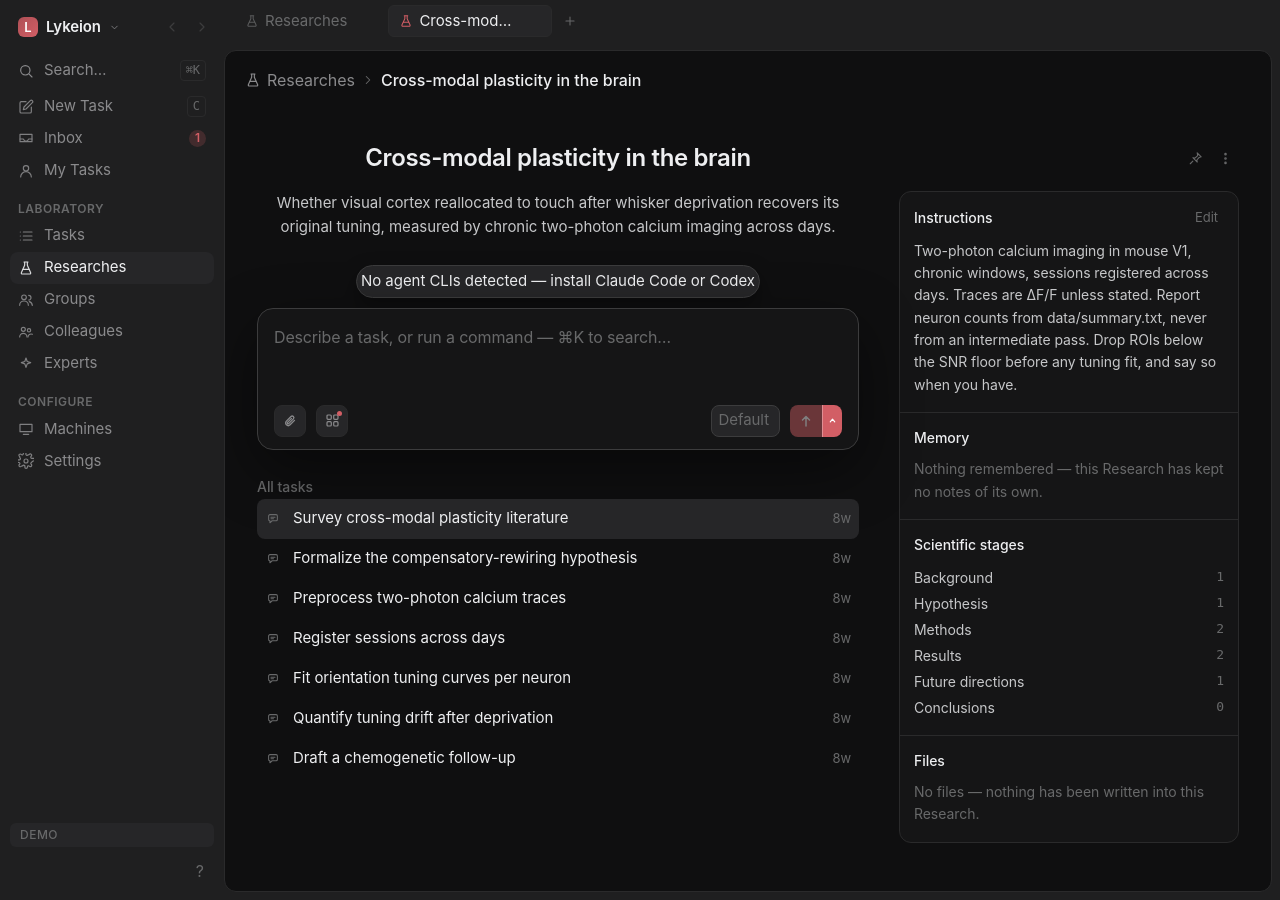
Scenario: the Research page › shows the instructions and writes an edit back to the Research
Expected: the text "Two-photon calcium imaging in mouse V1, chronic windows, sessions registered across days. Traces are ΔF/F unless stated." is shown, [914, 242, 1220, 393]
Click the button with aria-label "Edit instructions" at [1206, 218], box [1189, 206, 1224, 230]
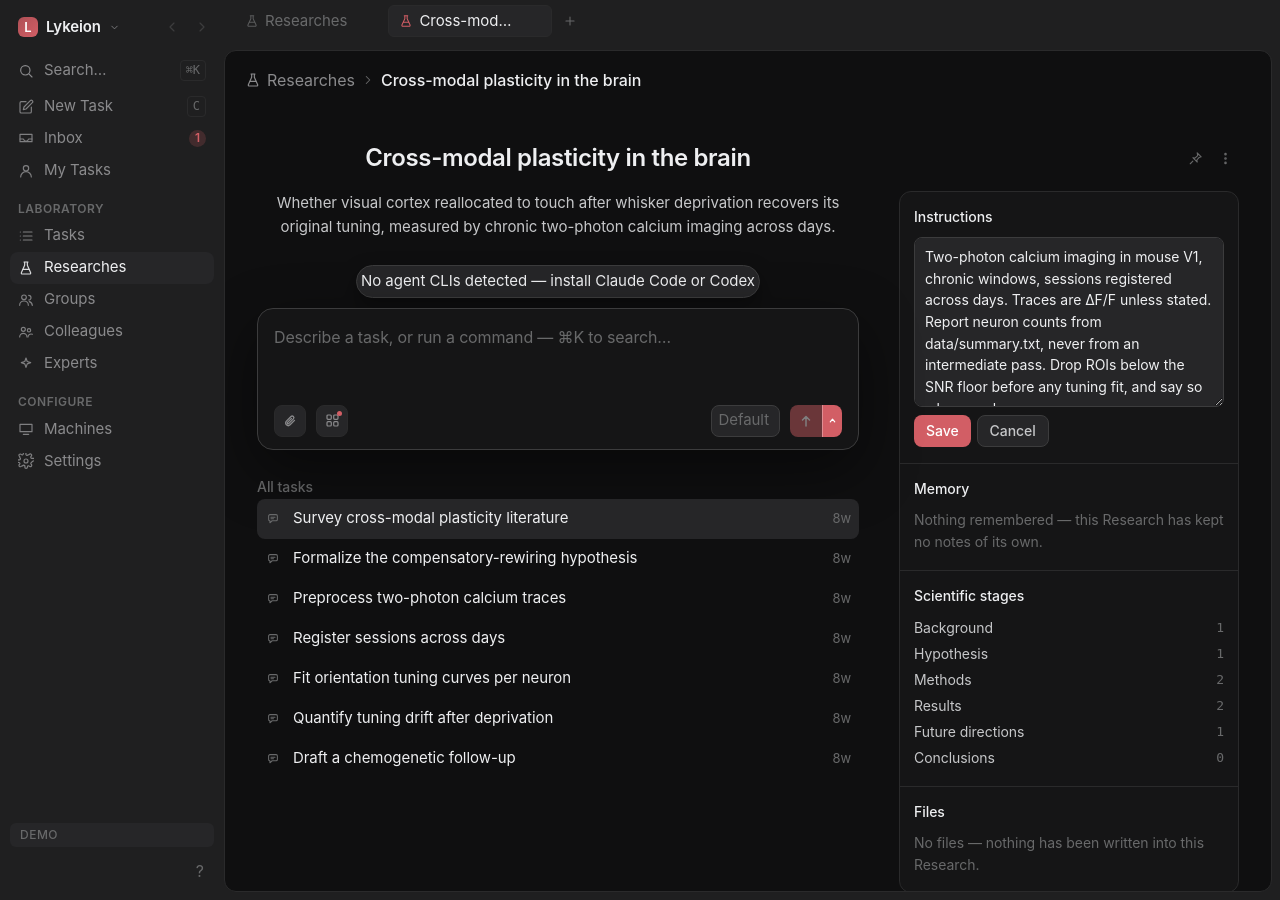
Replace the text in the text box named "Instructions" with "Sessions are registered across days." at [1069, 322], box [914, 237, 1224, 407]
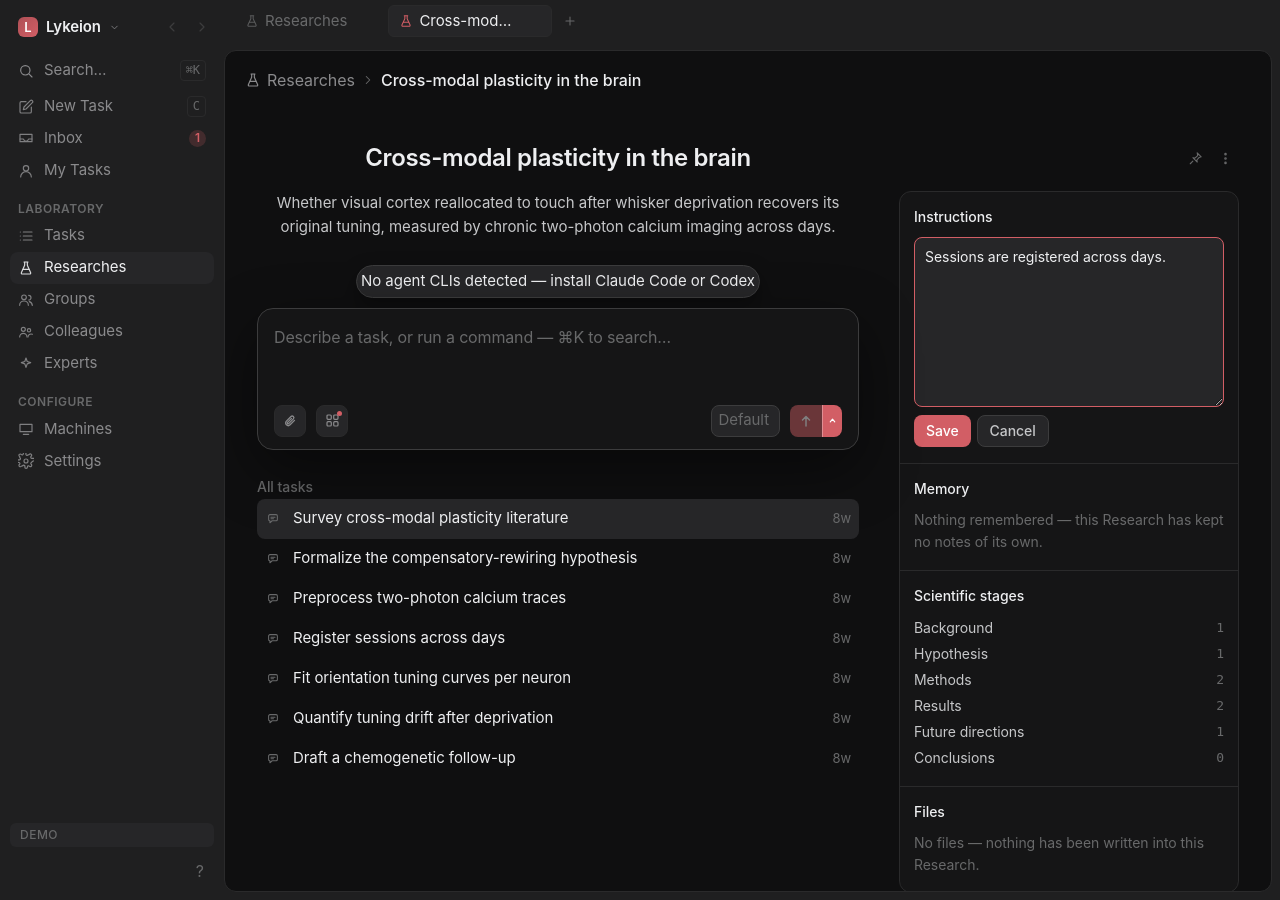
Click the button "Save" at [942, 431], box [914, 415, 971, 447]
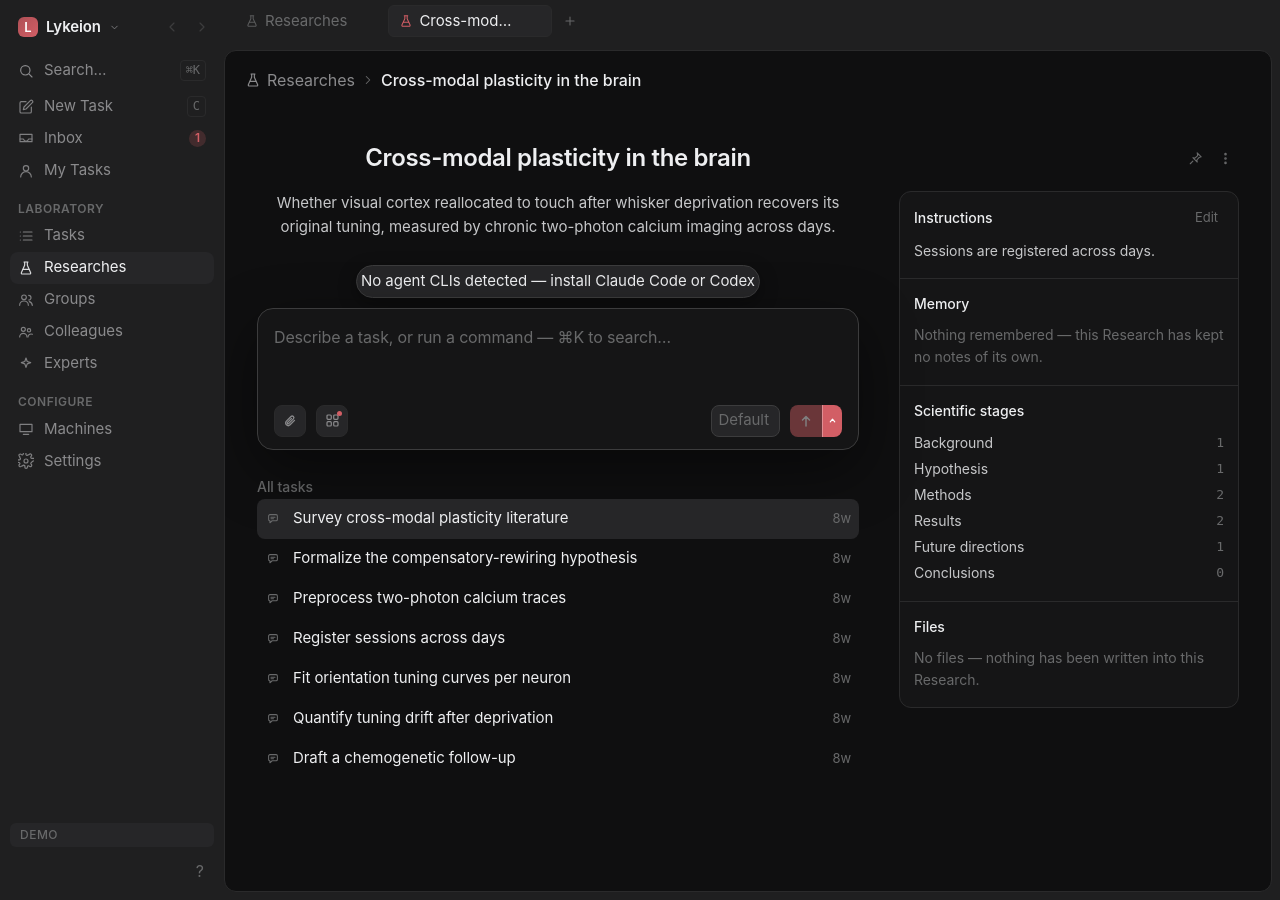
Result: the text "Sessions are registered across days." is shown at [914, 242, 1155, 258]
